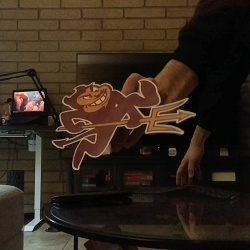sparky: (51, 78, 196, 170)
